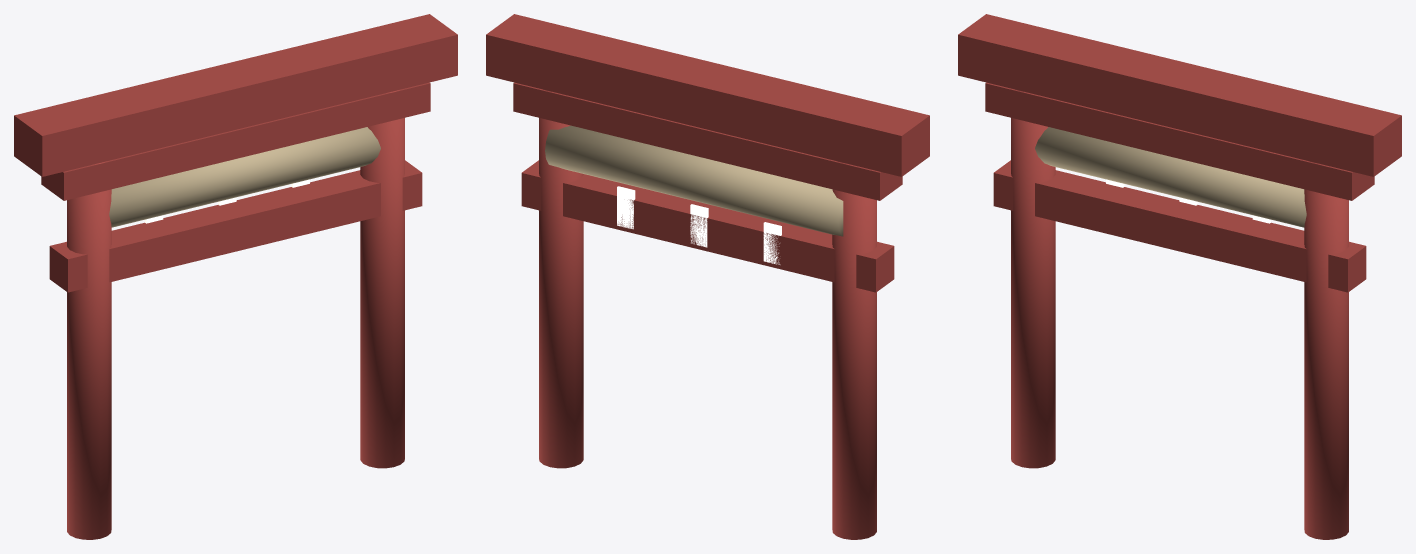
Rendered from prop_torii.glb.
3 renders of one model, left to right at view 1: azimuth 30°, elevation 25°; view 2: azimuth 150°, elevation 25°; view 3: azimuth 330°, elevation 25°, orthographic.
Parts seen in each view (by area): view 1: torii; view 2: torii; view 3: torii.
Boxes of the visible parts, x1,y1,x2,y2 form: torii: (14,14,457,539); torii: (486,14,929,539); torii: (958,14,1401,539).
Bounding box in the file's own units: 3.4 × 3.28 × 0.43.
